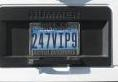2: (31, 33, 38, 49)
4: (39, 32, 45, 49)
7: (45, 32, 50, 49)
9: (71, 32, 77, 48)
I: (58, 32, 65, 48)
P: (65, 32, 70, 48)
V: (51, 31, 58, 49)
